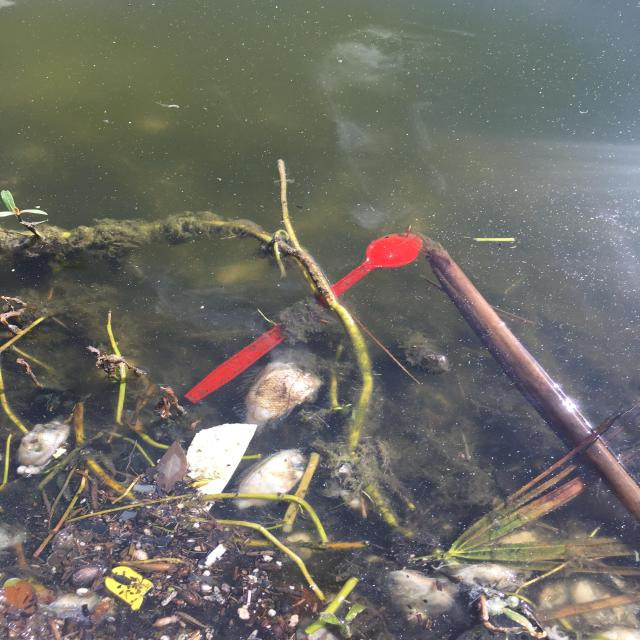litter: (157, 221, 436, 410), (155, 346, 337, 517)
